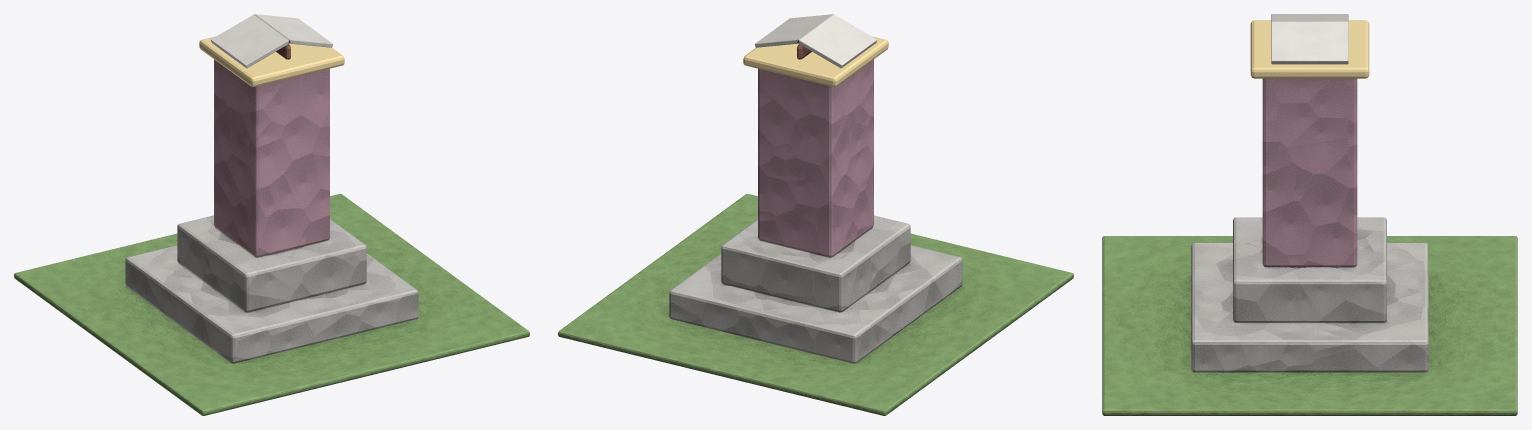
The model's file is buch_romance.glb.
The picture shows the model from 3 angles, left to right: view 1: azimuth 30°, elevation 25°; view 2: azimuth 150°, elevation 25°; view 3: azimuth 270°, elevation 25°; orthographic projection. The views are drawn at different scales.
Visible parts, largest first — view 1: buch_romance, buch_romance_details; view 2: buch_romance, buch_romance_details; view 3: buch_romance, buch_romance_details.
Part boxes in pixels (bbox=[...]): buch_romance: bbox=[14, 14, 529, 415]; buch_romance_details: bbox=[199, 36, 344, 86]; buch_romance: bbox=[558, 14, 1073, 415]; buch_romance_details: bbox=[743, 36, 888, 86]; buch_romance: bbox=[1102, 14, 1517, 415]; buch_romance_details: bbox=[1250, 20, 1369, 78].
Bounding box in the file's own units: 0.7 × 0.5729 × 0.7.
Materials: 2 (1 with a texture image).
